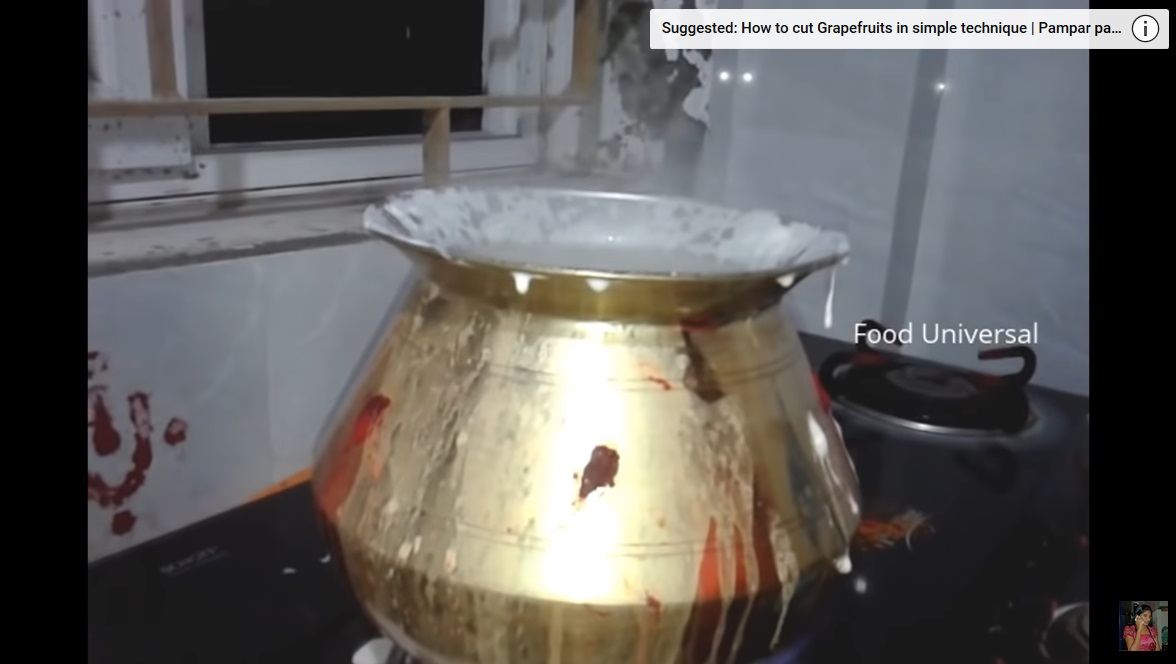Boiled: (344, 163, 840, 628)
